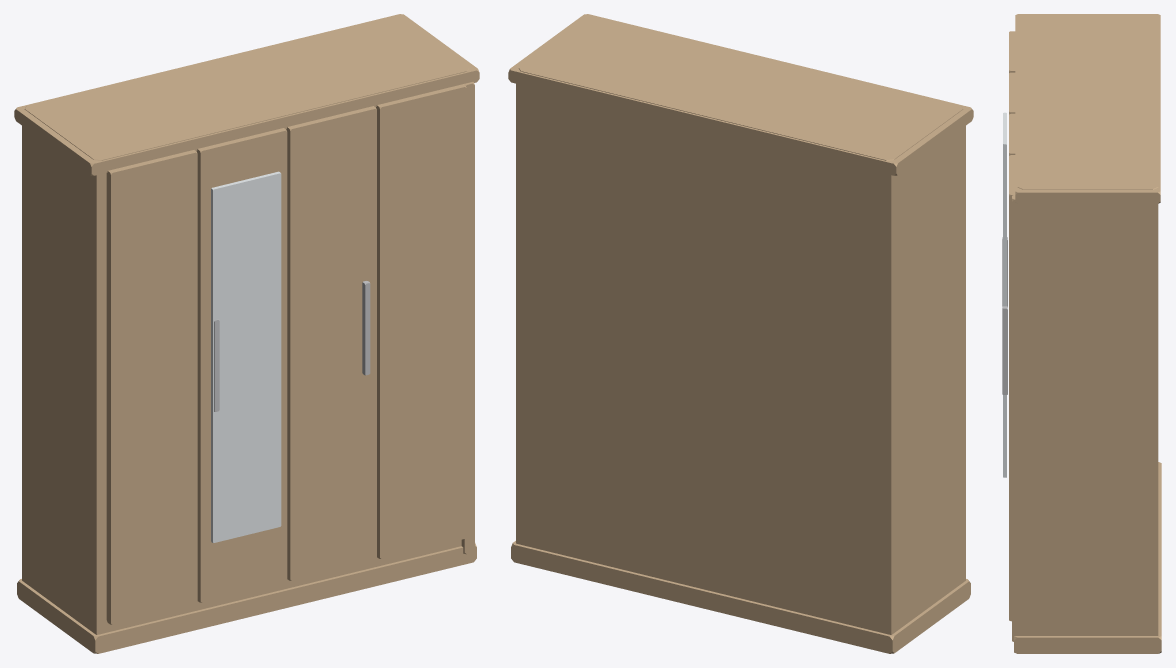
File: wardrobe_low.glb
The picture shows the model from 3 angles, left to right: view 1: azimuth 30°, elevation 25°; view 2: azimuth 150°, elevation 25°; view 3: azimuth 270°, elevation 25°; orthographic projection. The views are drawn at different scales.
Parts seen in each view (by area): view 1: WOOD_body, WOOD_door_0, WOOD_door_3, WOOD_door_2, MIRROR_panel, WOOD_door_1, WOOD_DARK_plinth, WOOD_DARK_cornice, WOOD_DARK_trim, METAL_handle_2; view 2: WOOD_body, WOOD_DARK_plinth, WOOD_DARK_cornice; view 3: WOOD_body, WOOD_DARK_trim, WOOD_DARK_cornice, WOOD_DARK_plinth, WOOD_door_3, MIRROR_panel, METAL_handle_2, WOOD_door_0, WOOD_door_1, WOOD_door_2.
Boxes of the visible parts, x1,y1,x2,y2 form: WOOD_body: (22, 16, 469, 634); WOOD_door_0: (106, 150, 197, 624); WOOD_door_3: (376, 84, 466, 558); WOOD_door_2: (286, 106, 376, 580); MIRROR_panel: (211, 171, 281, 542); WOOD_door_1: (196, 128, 287, 602); WOOD_DARK_plinth: (17, 543, 476, 653); WOOD_DARK_cornice: (14, 14, 479, 175); WOOD_DARK_trim: (461, 82, 474, 554); METAL_handle_2: (362, 281, 370, 375); WOOD_body: (516, 16, 965, 634); WOOD_DARK_plinth: (511, 541, 970, 653); WOOD_DARK_cornice: (508, 14, 973, 175); WOOD_body: (1017, 16, 1158, 635); WOOD_DARK_trim: (1012, 194, 1023, 641); WOOD_DARK_cornice: (1015, 14, 1160, 203); WOOD_DARK_plinth: (1014, 462, 1161, 653); WOOD_door_3: (1009, 155, 1015, 621); MIRROR_panel: (1003, 112, 1006, 477); METAL_handle_2: (1002, 306, 1007, 394); WOOD_door_0: (1009, 31, 1015, 72); WOOD_door_1: (1009, 72, 1015, 114); WOOD_door_2: (1009, 113, 1015, 155).
Size of the model in its own units: 1.86 by 2.25 by 0.7025.
